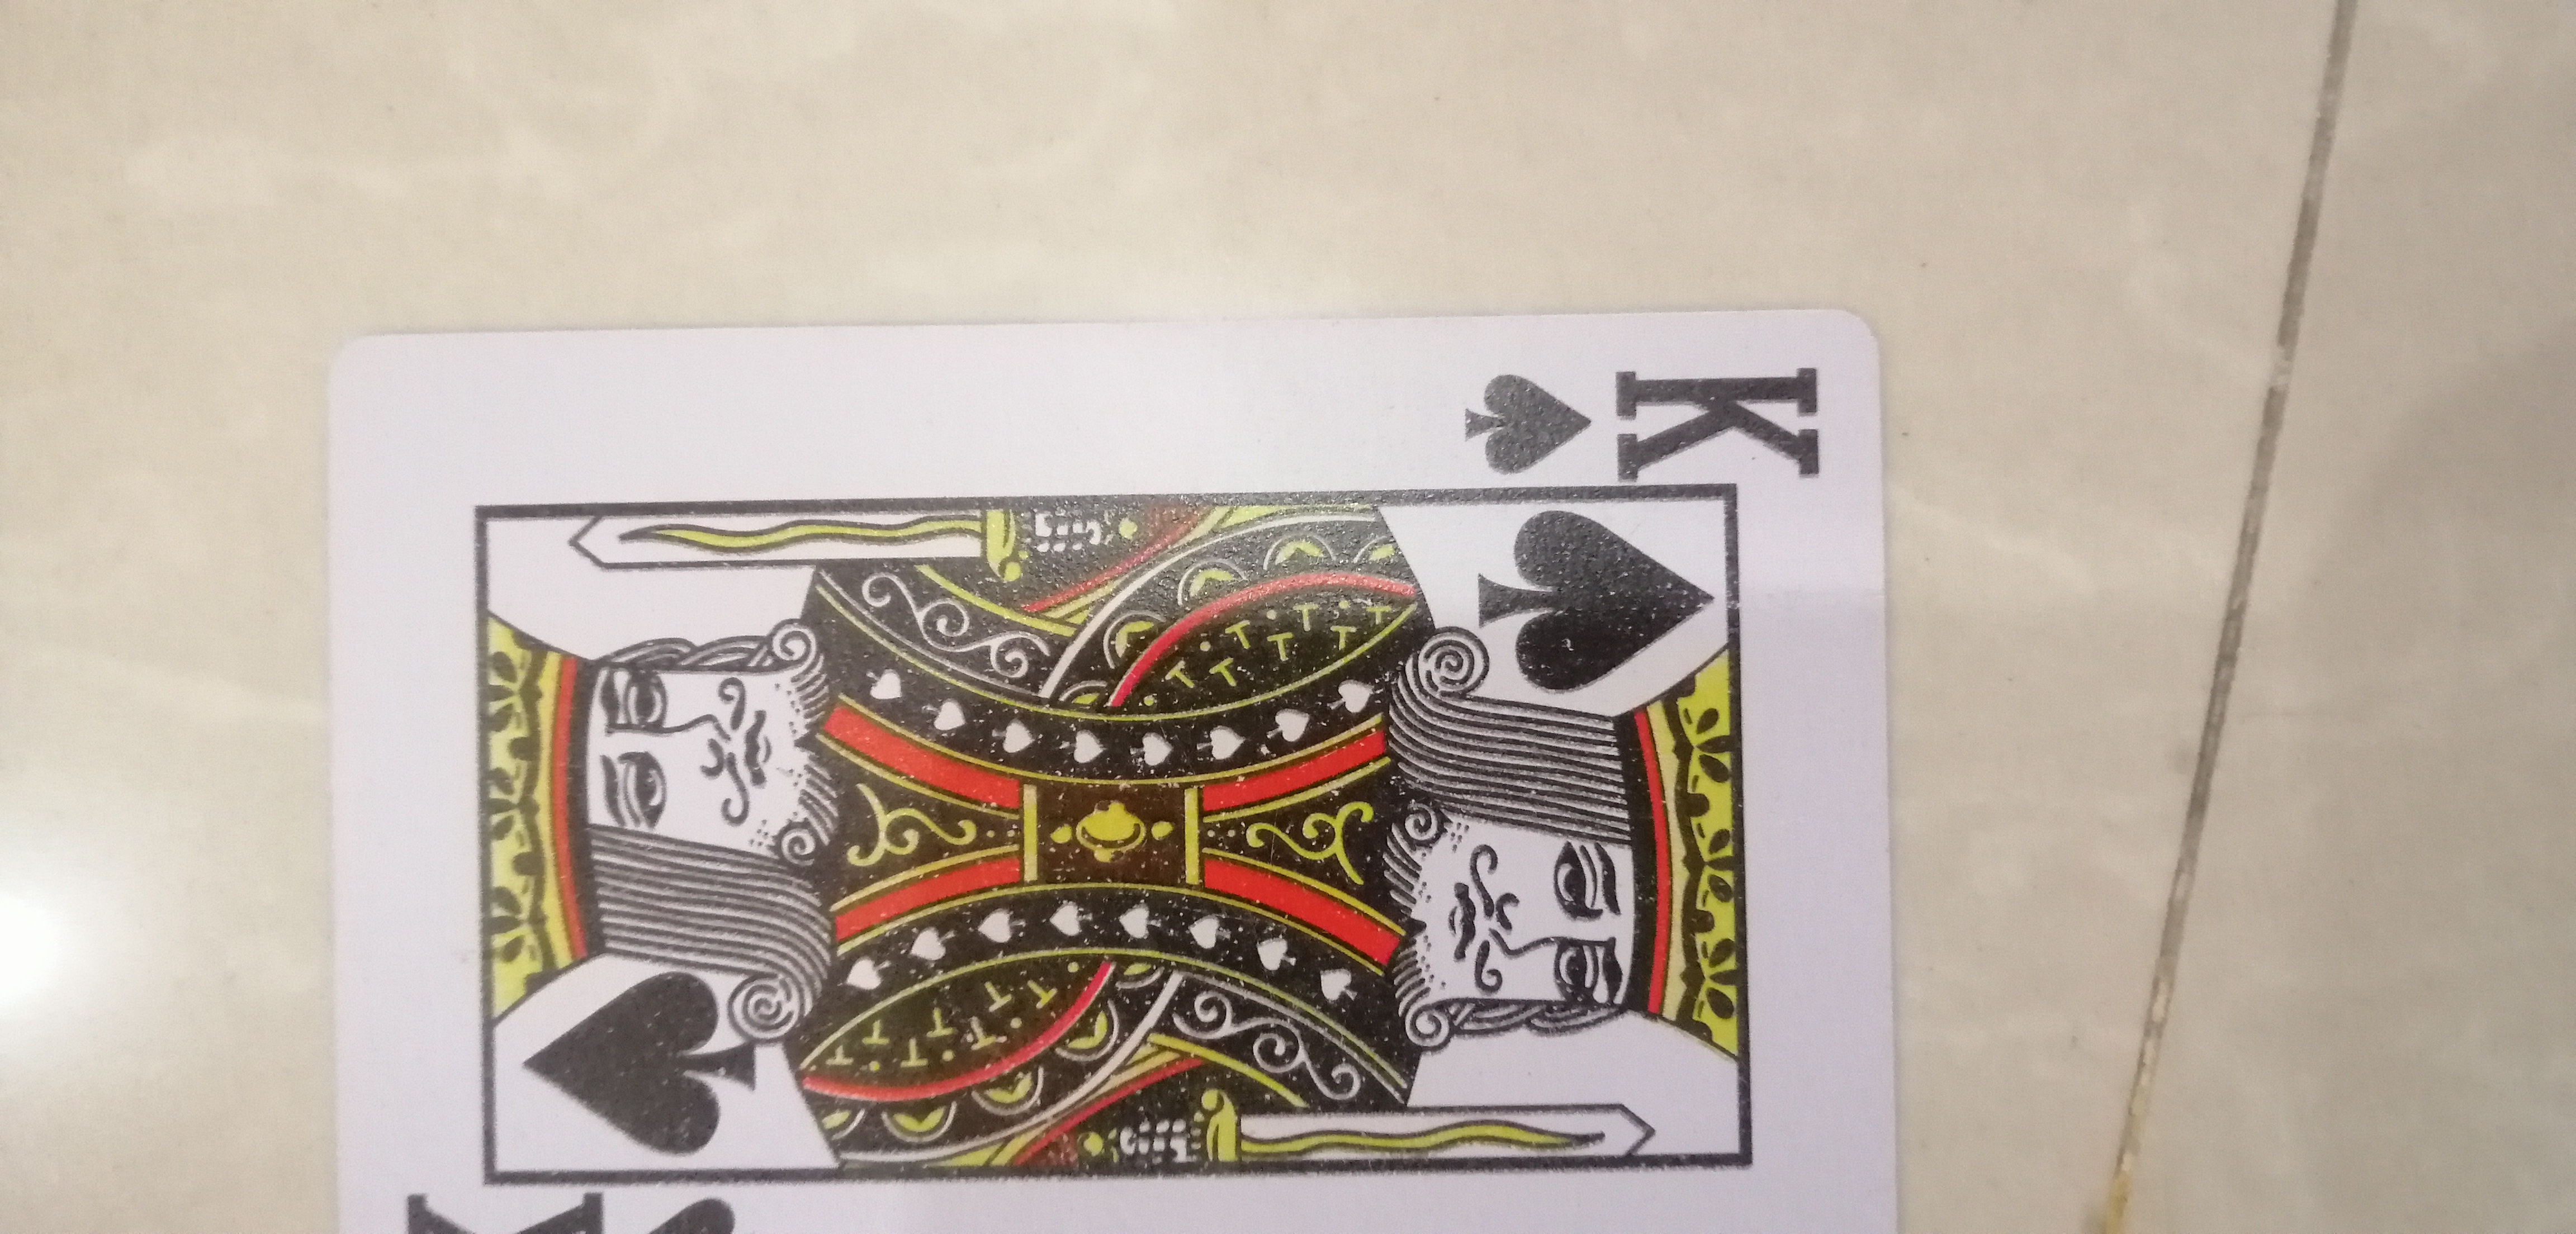king: (299, 289, 1911, 1234)
